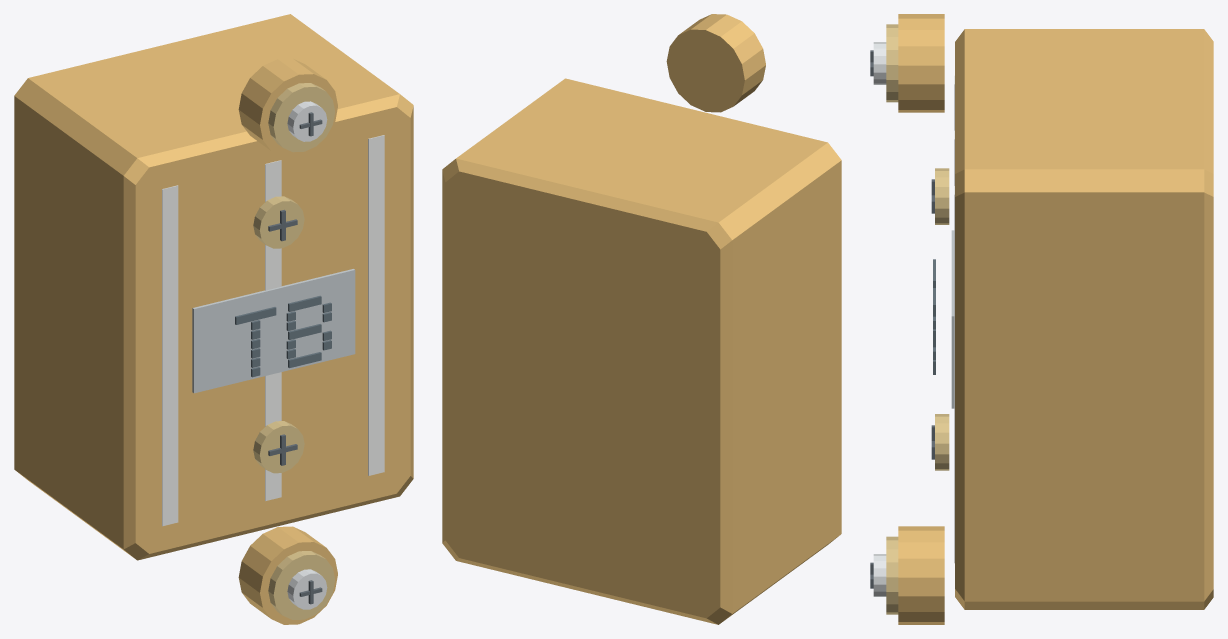
Rendered from terminalBlock.glb.
3 renders of one model, left to right at view 1: azimuth 30°, elevation 25°; view 2: azimuth 150°, elevation 25°; view 3: azimuth 270°, elevation 25°, orthographic. The views are drawn at different scales.
Visible parts, largest first — view 1: terminalBlock-preview; view 2: terminalBlock-preview; view 3: terminalBlock-preview.
Boxes of the visible parts, x1,y1,x2,y2 form: terminalBlock-preview: (14,14,413,624); terminalBlock-preview: (442,14,841,624); terminalBlock-preview: (870,14,1213,624).
Size of the model in its own units: 1.16 by 2.11 by 1.09.
